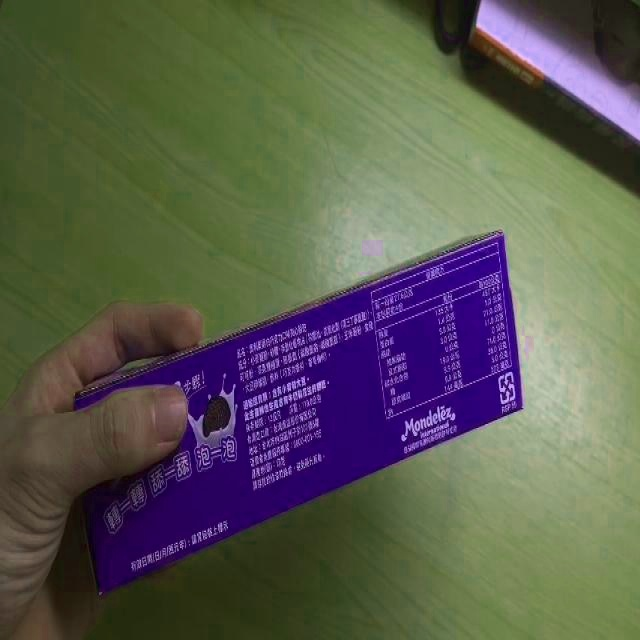Oreo: (74, 227, 523, 593)
